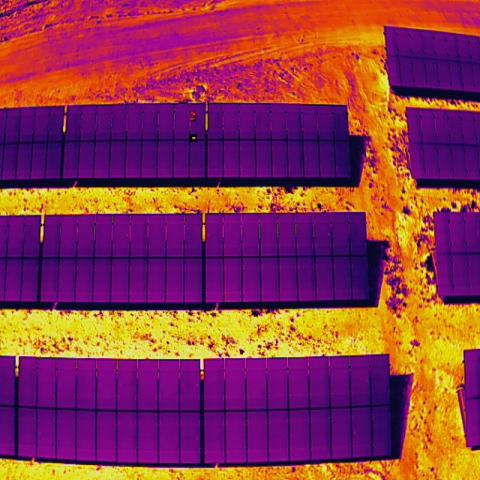fault: (190, 134, 197, 142), (190, 110, 196, 116), (190, 117, 196, 121)
